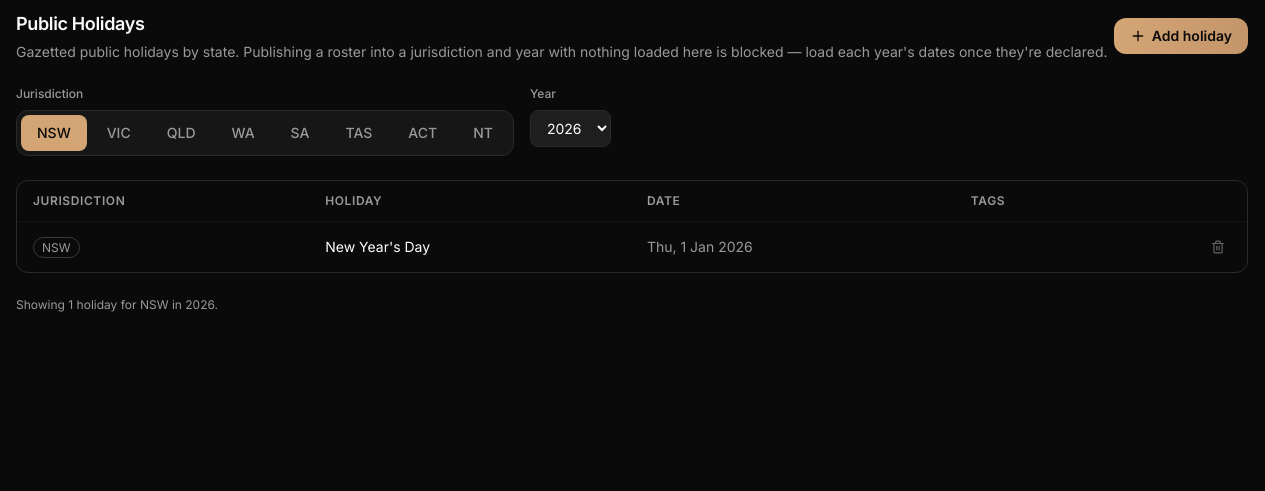
Test: PublicHolidaysTab › removes a holiday from the filtered view on successful delete
expect the text "New Year's Day" is shown: met, box [309,222,631,272]
Step 1. Click the button named "remove new year's day" → (1218, 247), box [1205,234,1231,260]
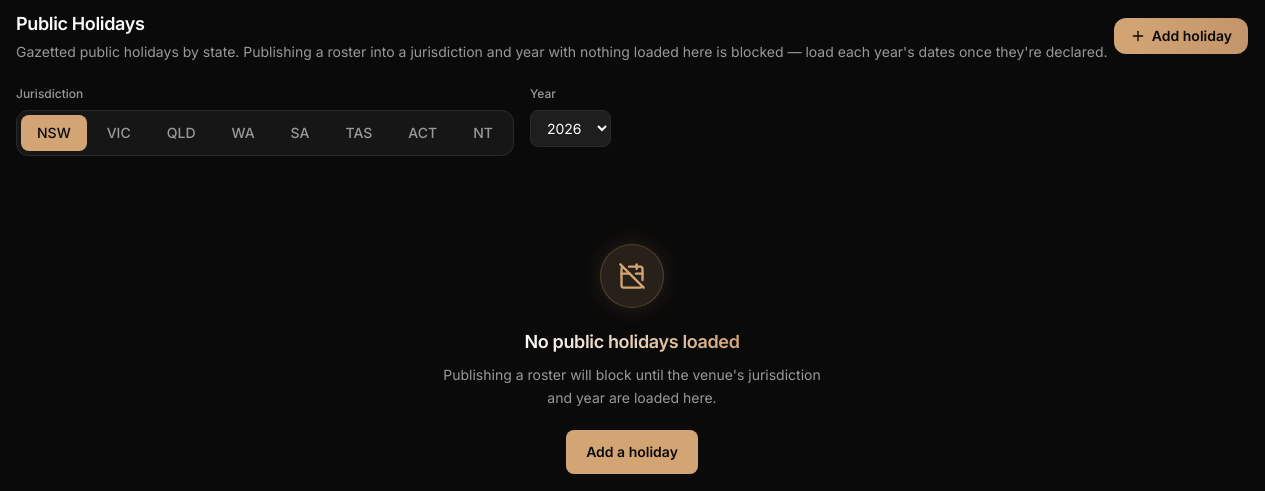
expect the text "New Year's Day" is gone: met
